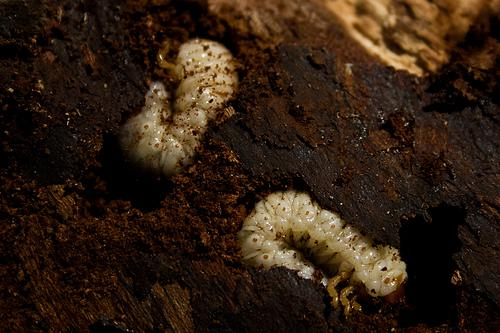grub: (245, 191, 418, 316)
